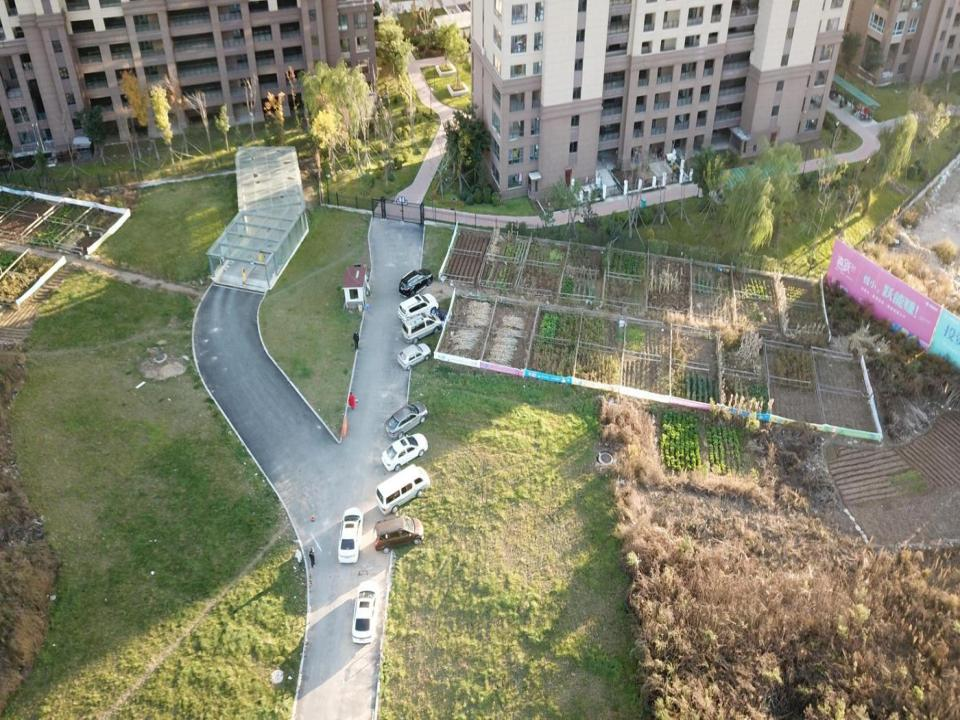car: (380, 433, 428, 473), (374, 514, 424, 552), (385, 398, 428, 442), (352, 581, 380, 642), (338, 506, 363, 564), (400, 292, 437, 329), (398, 340, 431, 373), (398, 268, 432, 300)
van: (376, 463, 429, 514), (403, 312, 440, 346)
